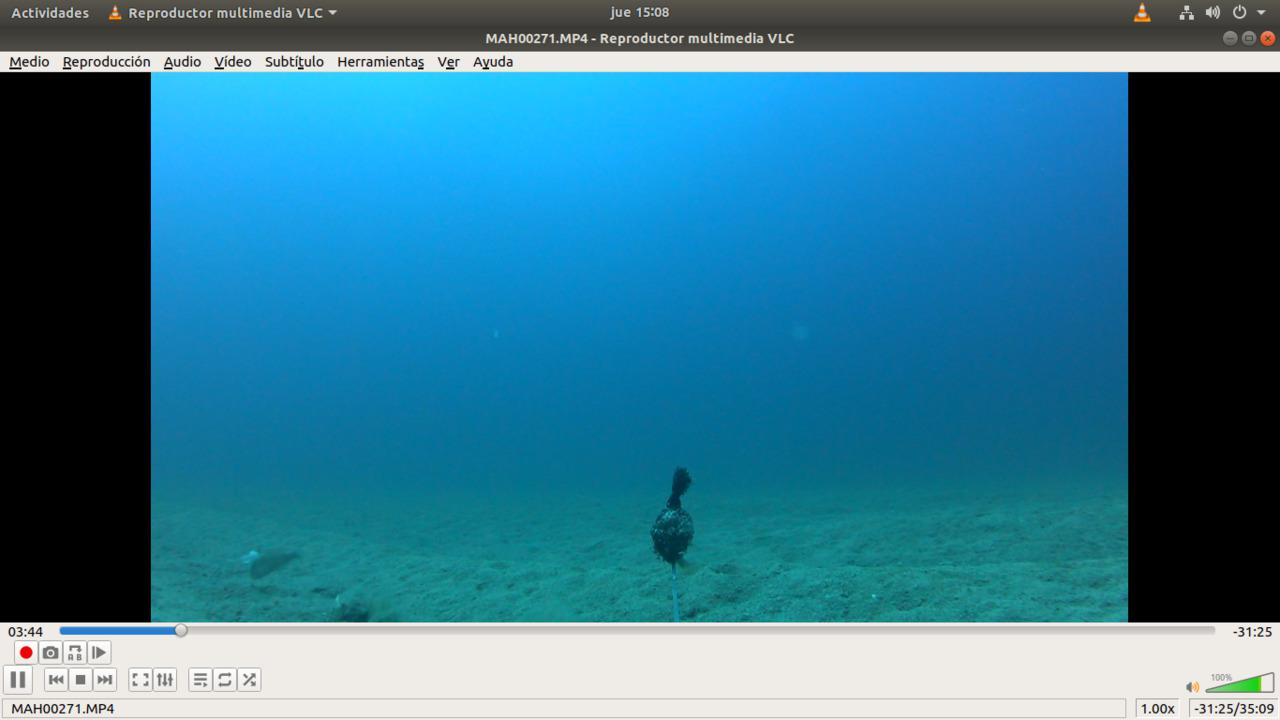raor: (241, 542, 301, 583)
